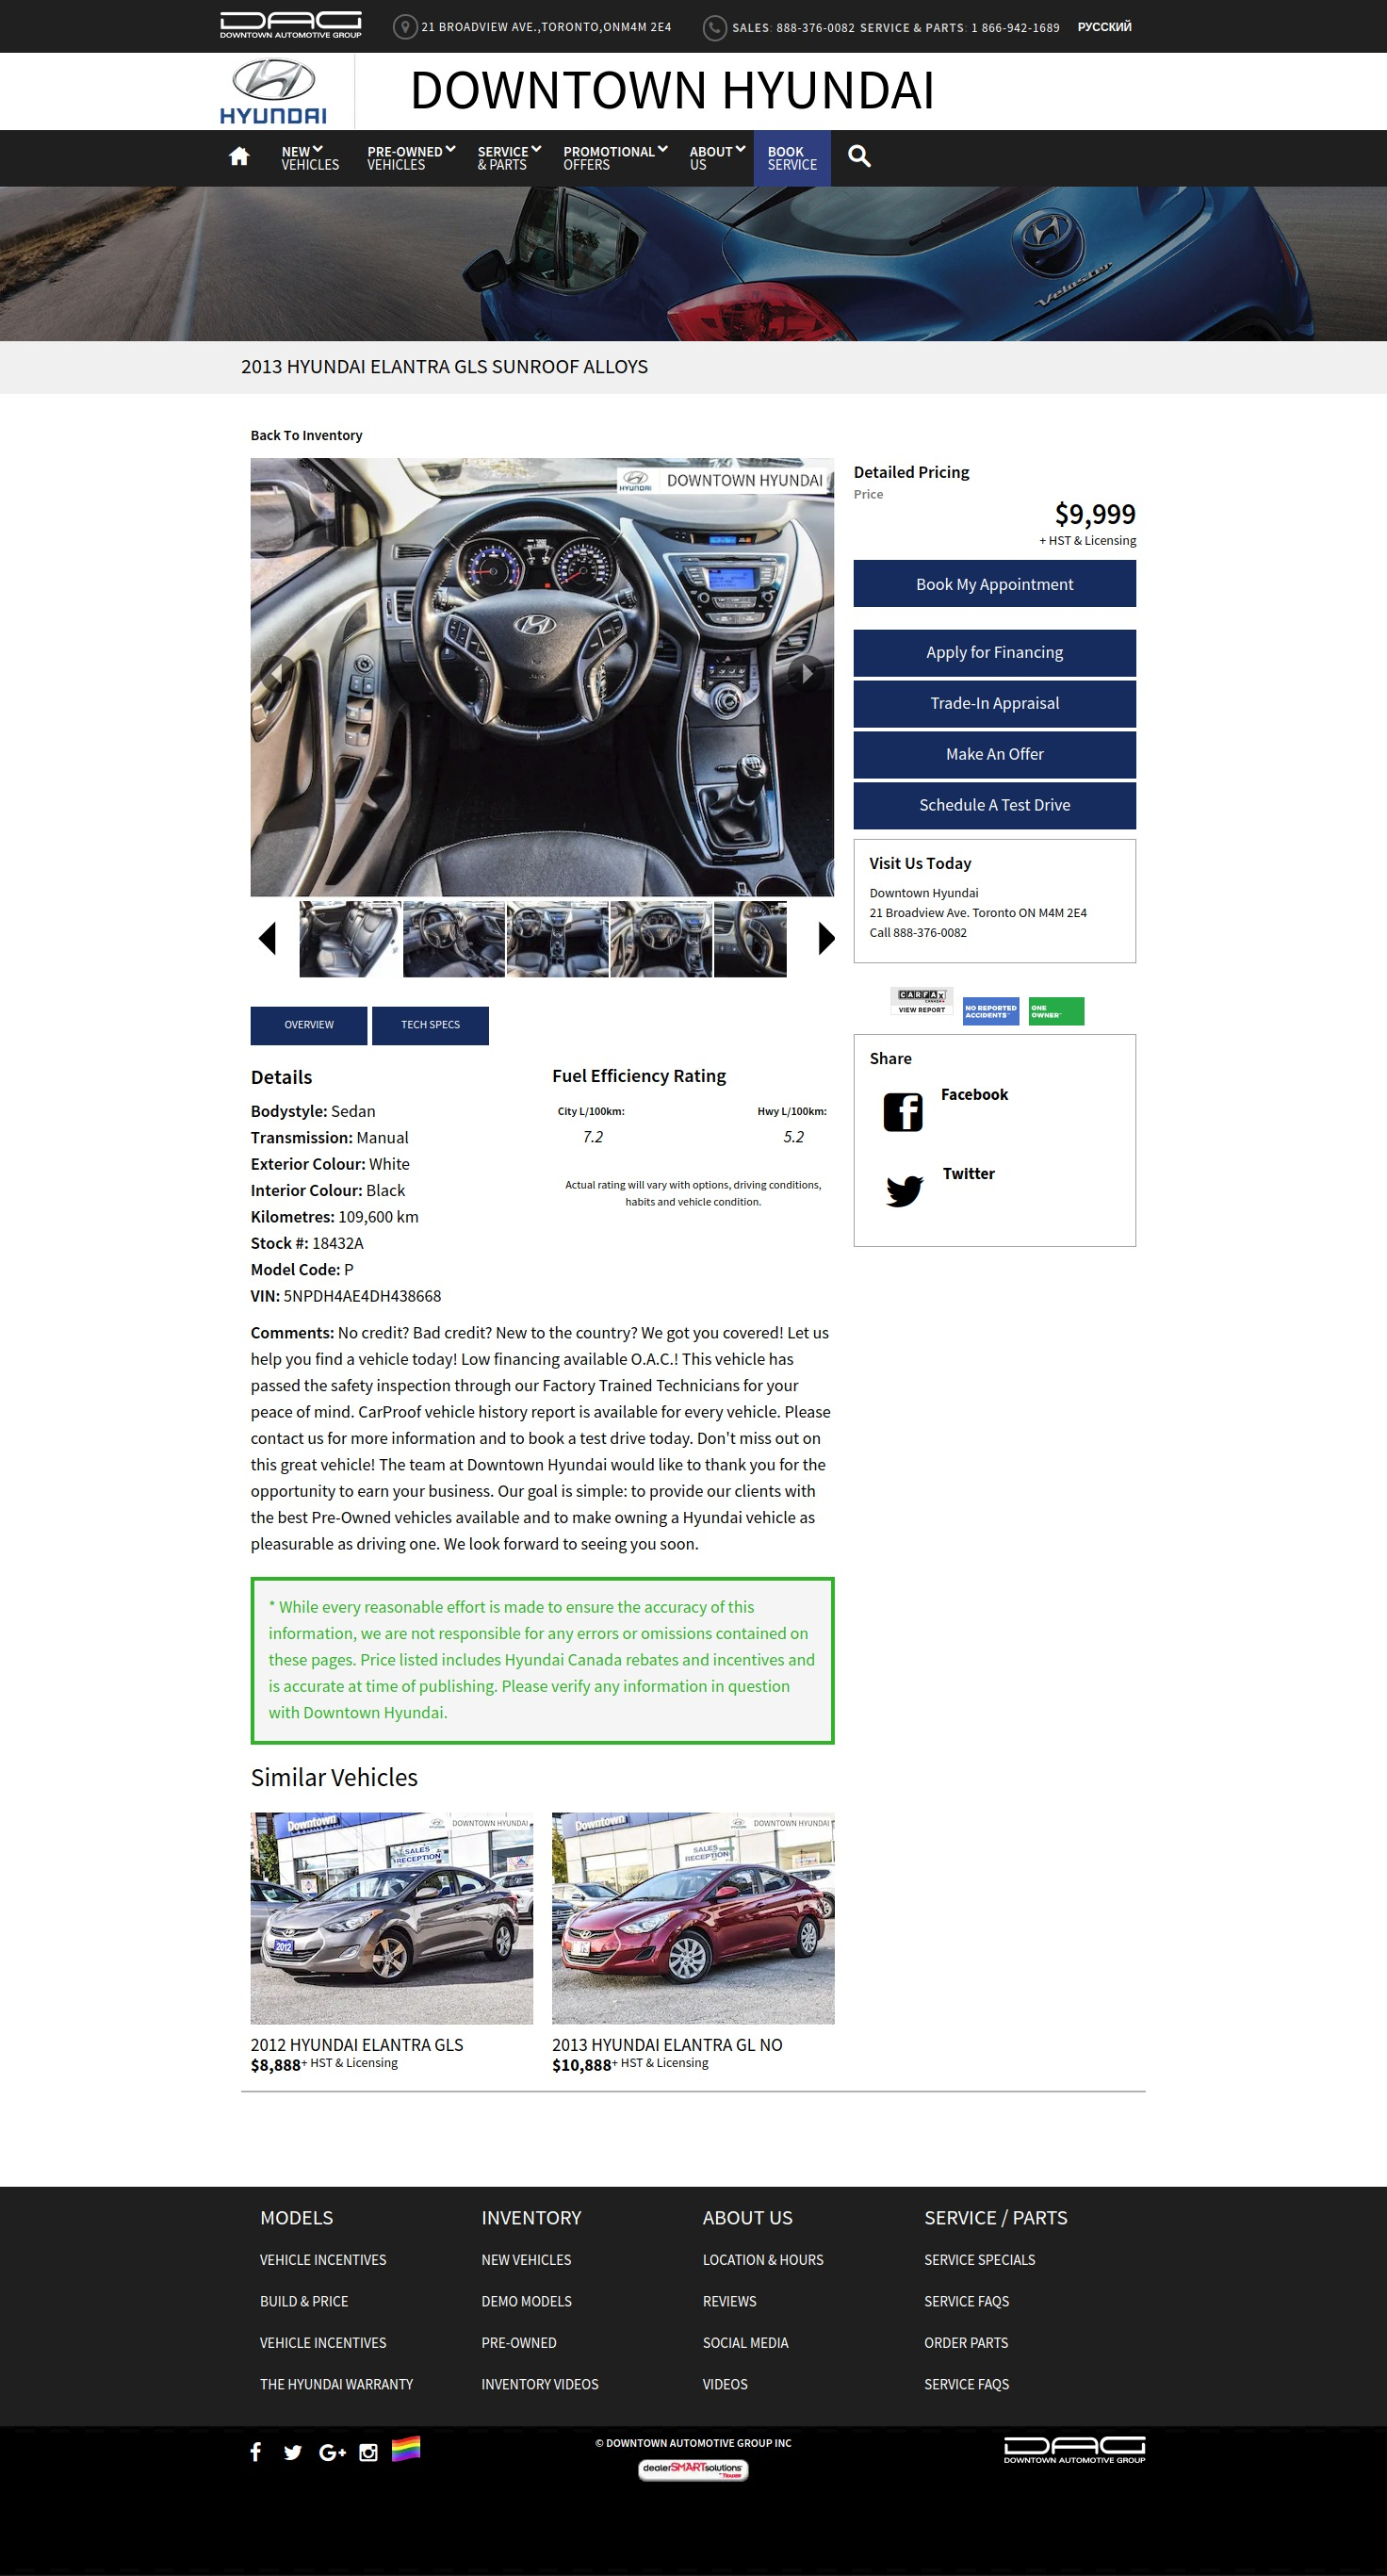car: (818, 921, 835, 957)
